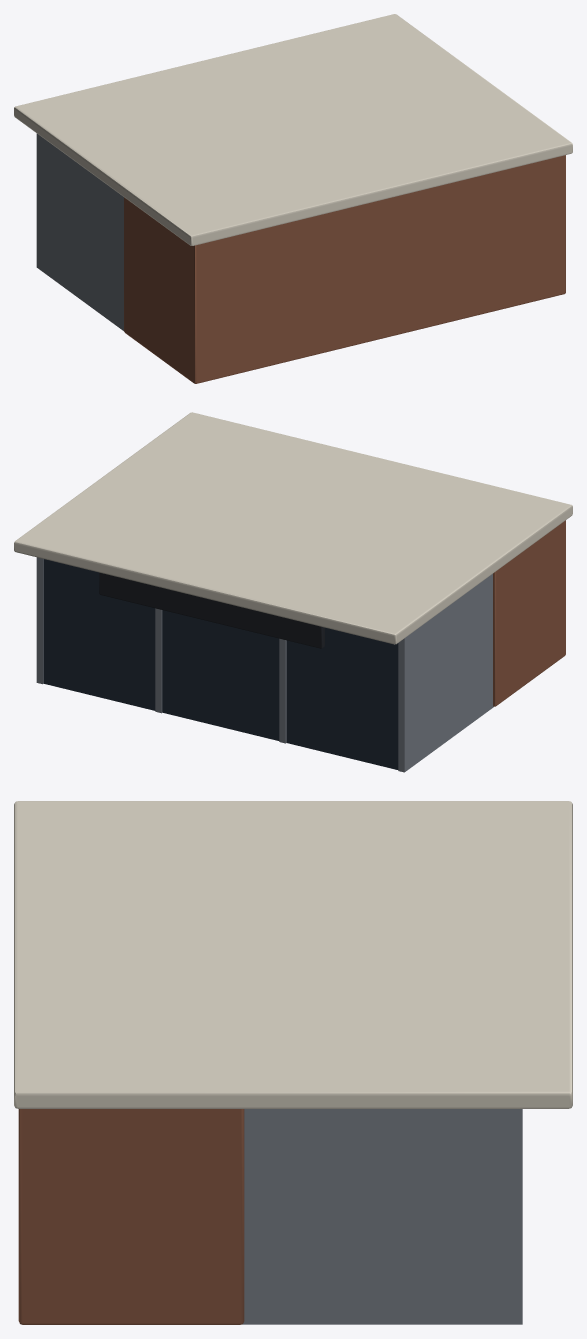
The model's file is showroom.glb.
3 views of the same model, one above another, from view 1: azimuth 30°, elevation 25°; view 2: azimuth 150°, elevation 25°; view 3: azimuth 270°, elevation 25° (orthographic). The views are drawn at different scales.
Parts seen in each view (by area): view 1: part-trim, part-paint, part-metal; view 2: part-trim, part-glass, part-metal, part-paint, part-dark; view 3: part-trim, part-metal, part-paint.
Part boxes in pixels (box(x1,y1,x2,y2)): part-trim: box(14, 14, 572, 245); part-paint: box(124, 155, 565, 383); part-metal: box(36, 133, 123, 330); part-trim: box(14, 412, 572, 644); part-glass: box(43, 559, 398, 769); part-metal: box(36, 557, 493, 772); part-paint: box(493, 520, 565, 706); part-dark: box(99, 572, 324, 648); part-trim: box(14, 801, 572, 1108); part-metal: box(242, 1109, 522, 1324); part-paint: box(18, 1109, 244, 1324).
Bounding box in the file's own units: 72 × 27.2 × 58.
